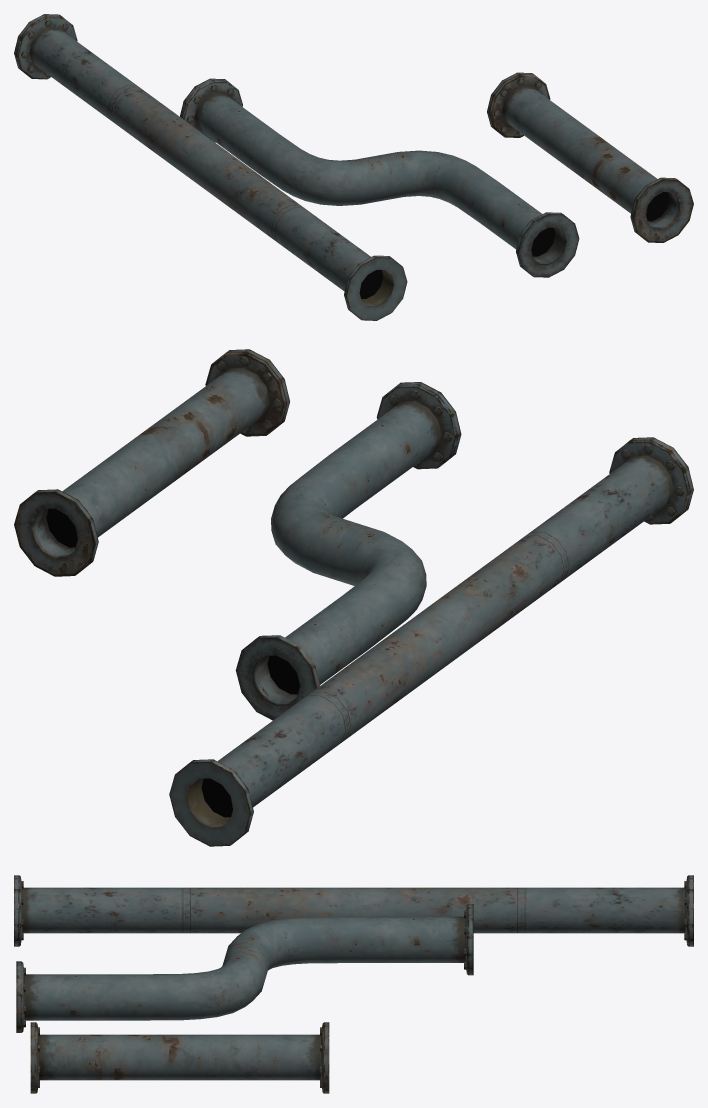
The model's file is pipes.glb.
3 renders of one model, top to bottom at view 1: azimuth 30°, elevation 25°; view 2: azimuth 150°, elevation 25°; view 3: azimuth 270°, elevation 25°, orthographic. The views are drawn at different scales.
Parts seen in each view (by area): view 1: modular_industrial_pipes_01_pipe01; view 2: modular_industrial_pipes_01_pipe01; view 3: modular_industrial_pipes_01_pipe01.
Boxes of the visible parts, x1=… form: modular_industrial_pipes_01_pipe01: x1=14, y1=14, x2=693, y2=320; modular_industrial_pipes_01_pipe01: x1=14, y1=349, x2=693, y2=846; modular_industrial_pipes_01_pipe01: x1=14, y1=875, x2=693, y2=1093.
Size of the model in its own units: 1.21 by 0.2066 by 1.95.
Materials: 1 (1 with a texture image).
